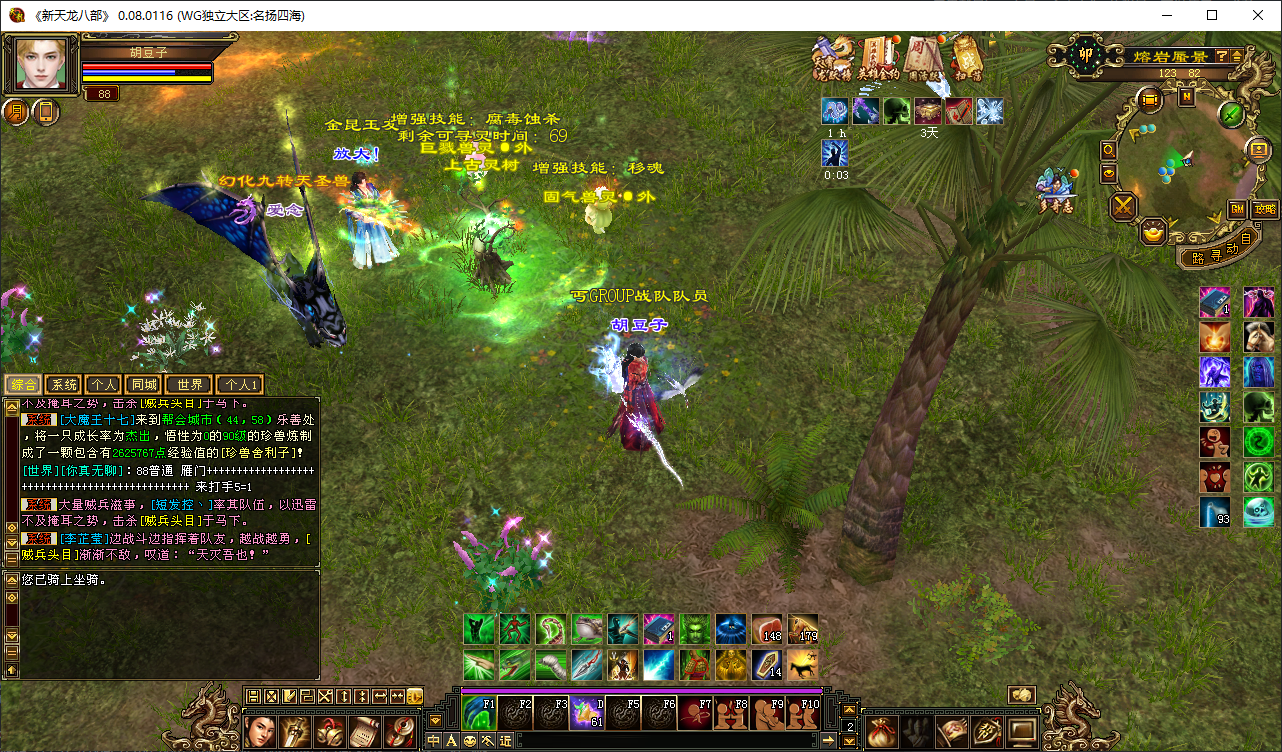cheap: (524, 151, 694, 268), (391, 98, 558, 205)
